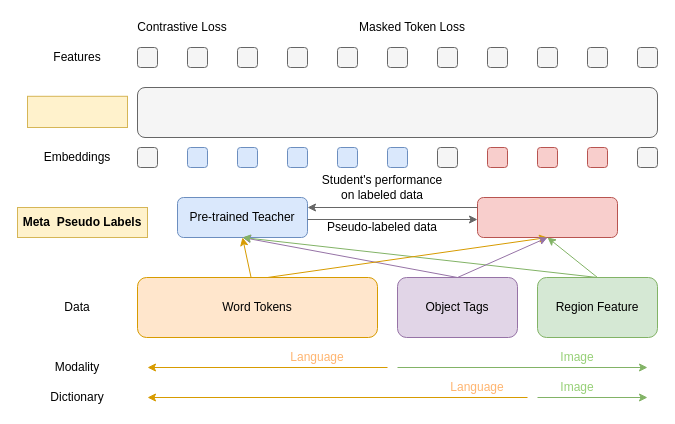
This 675x424 diagram has some shape labels left out. Here are the shapes that lost their labels. From the top down, the box of each, then its label:
(26, 95, 128, 128): Oscar Network
(136, 86, 658, 138): Multi-Layer Transformers
(476, 196, 618, 238): Student
